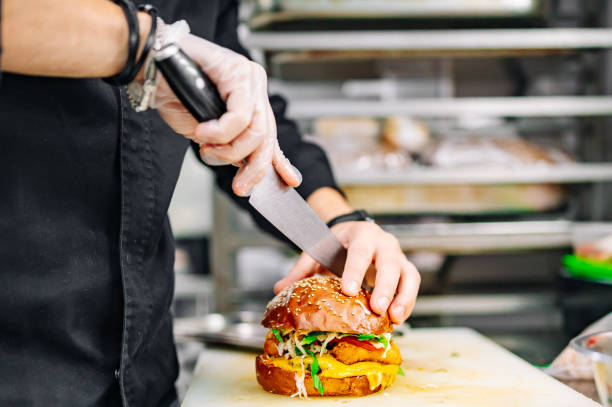knife: (154, 43, 349, 277)
